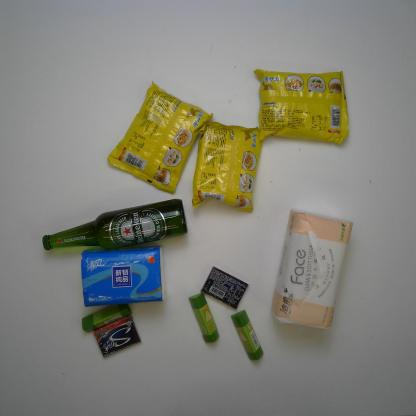Alcohol: (39, 195, 190, 254)
Gum: (90, 312, 144, 360), (198, 264, 249, 312)
Instant Noodles: (104, 78, 215, 196), (250, 67, 352, 147), (190, 117, 264, 214)
Stationery: (228, 306, 266, 364), (79, 299, 135, 335), (186, 291, 222, 346)
Tissue: (268, 206, 356, 333), (78, 243, 168, 310)
